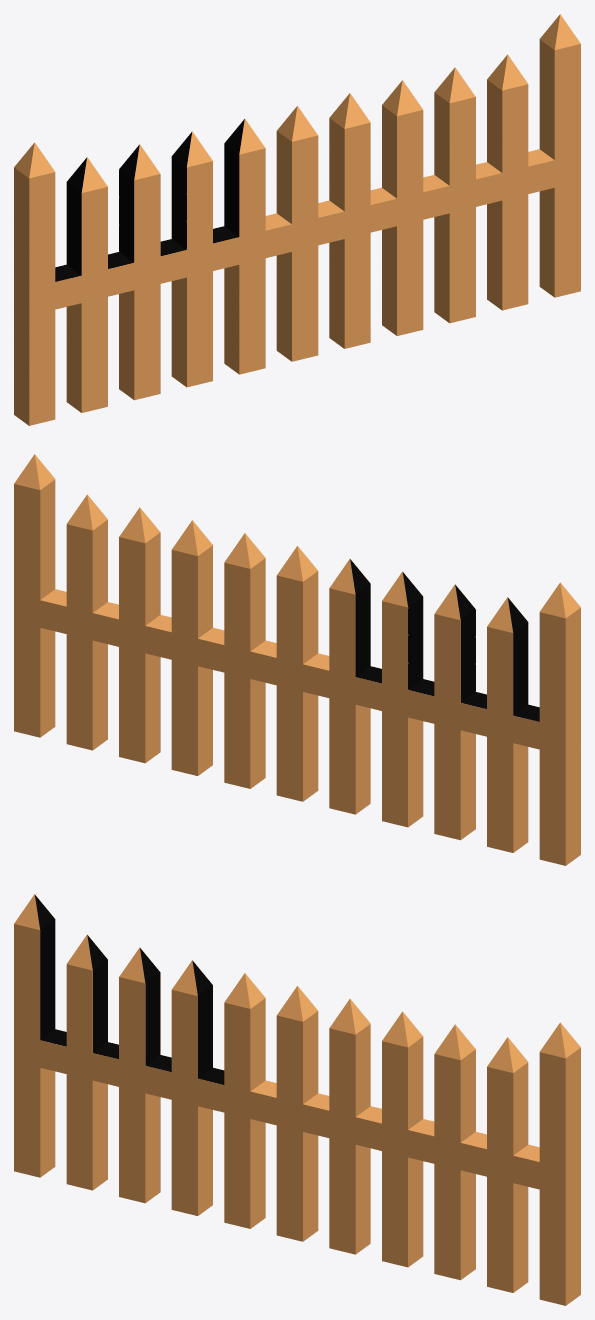
The model's file is fence.glb.
3 renders of one model, top to bottom at view 1: azimuth 30°, elevation 25°; view 2: azimuth 150°, elevation 25°; view 3: azimuth 330°, elevation 25°, orthographic.
Parts seen in each view (by area): view 1: Cube; view 2: Cube; view 3: Cube.
Part boxes in pixels (x1,y1,x2,y2): Cube: (14, 14, 580, 425); Cube: (14, 454, 580, 865); Cube: (14, 894, 580, 1305).
Bounding box in the file's own units: 42 × 20 × 2.
Materials: 1 (1 with a texture image).
